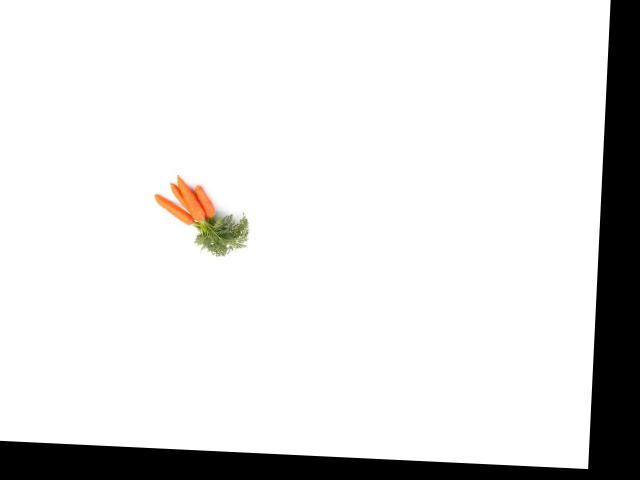carrot: (198, 184, 217, 218)
